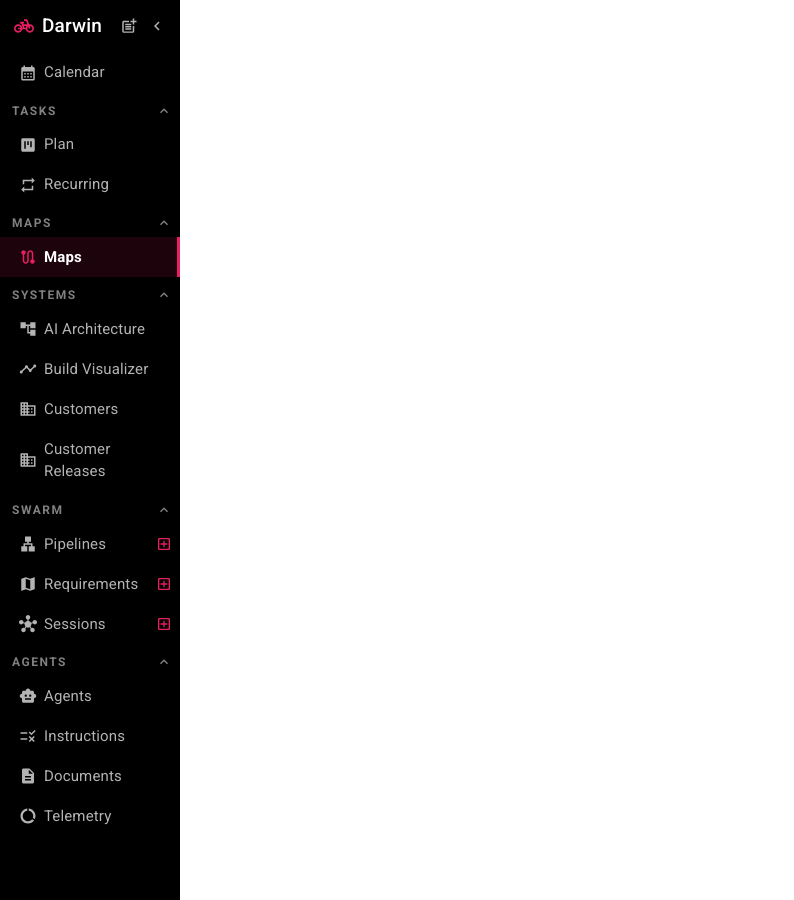
Test case: Requirement Filer (req #3811) › in the icon-only navbar it is one + in its purple box, and a click creates a requirement (req #3886)
Click the button with test id "navbar-requirement-filer" at (129, 26), box [118,15,140,37]
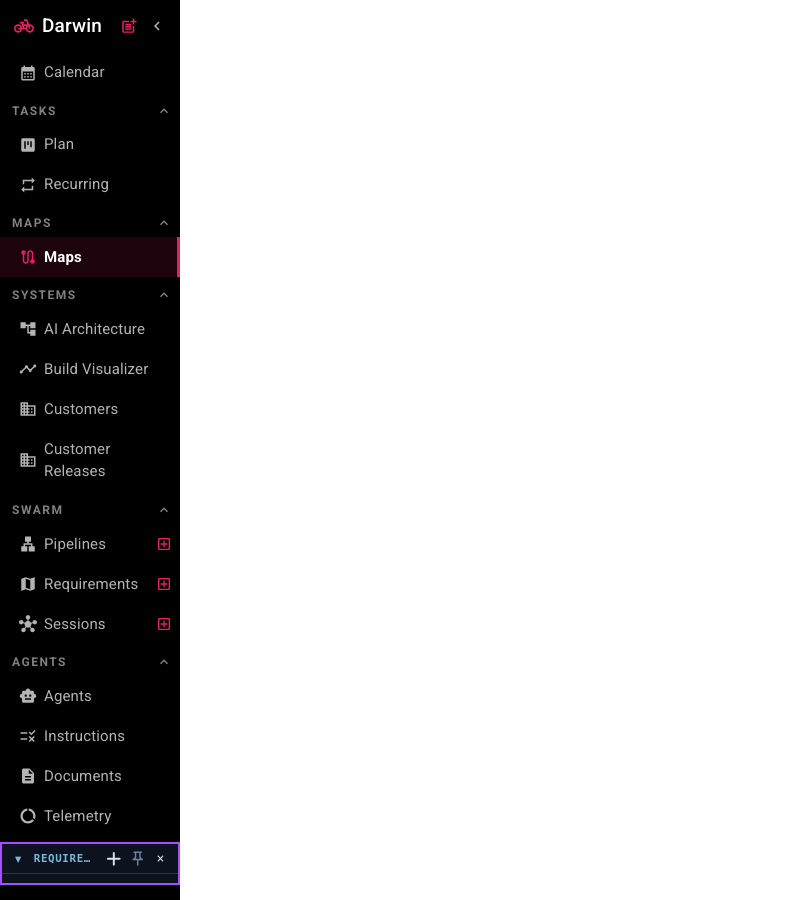
Click the button with test id "navbar-collapse-toggle" at (157, 26), box [146,15,168,37]
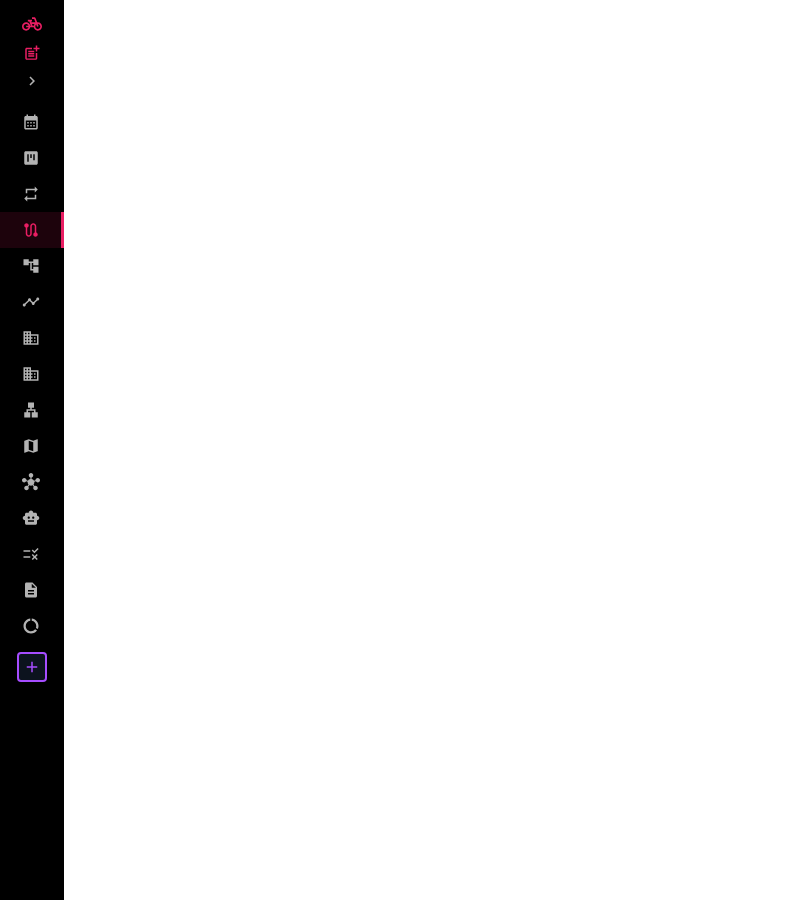
expect the icon with test id "AddIcon" is shown: met, box [23,658,41,676]
expect the element with test id "requirement-filer-header" is gone: met
Press the mouse on the button with test id "requirement-filer-rack-icon" at (32, 667), box [17,652,47,682]
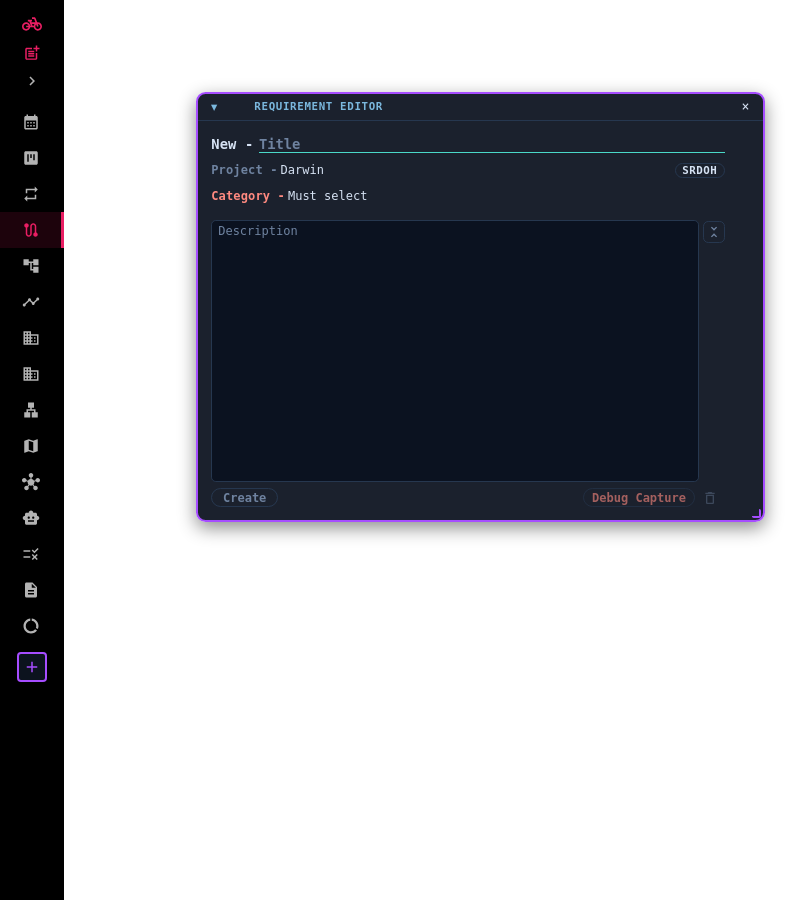
expect the button with test id "requirement-filer-rack-icon" is shown: met, box [17,652,47,682]
expect the element with test id "requirement-editor" is shown: met, box [196,92,765,522]
Click the button with test id "navbar-collapse-toggle" at (32, 81), box [21,70,43,92]
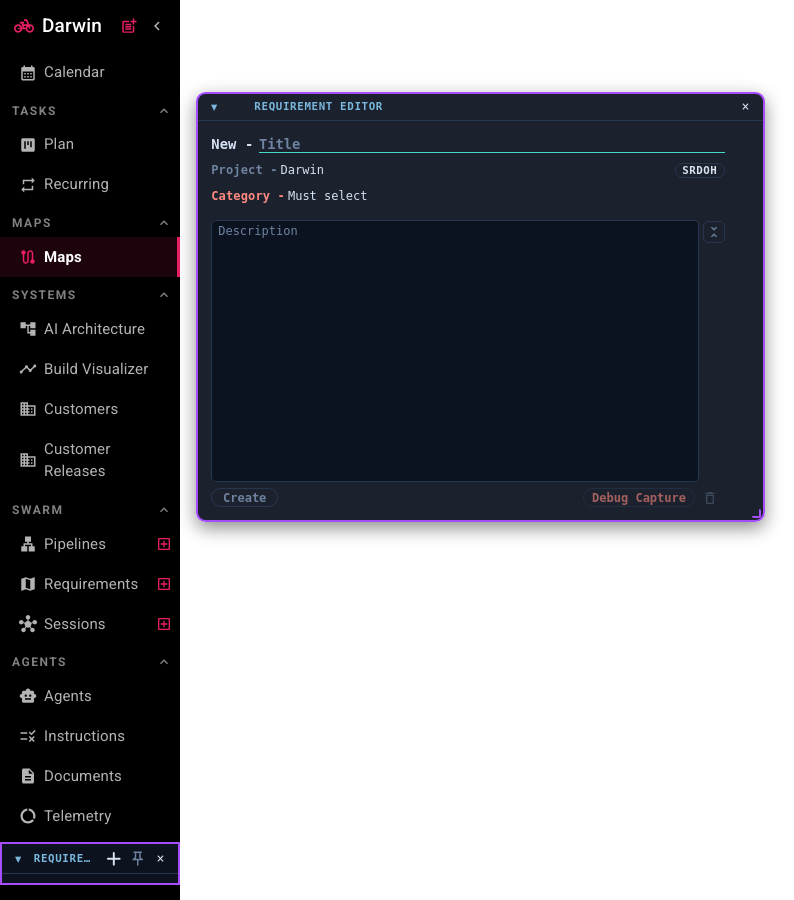
expect the button with test id "requirement-filer-rack-icon" is gone: met
expect the element with test id "requirement-filer-header" is shown: met, box [2,844,178,874]
